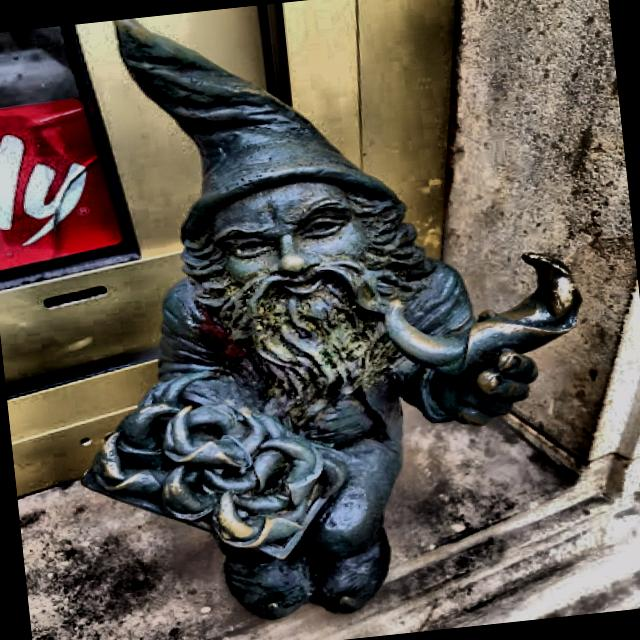Rogalik: (81, 18, 580, 622)
